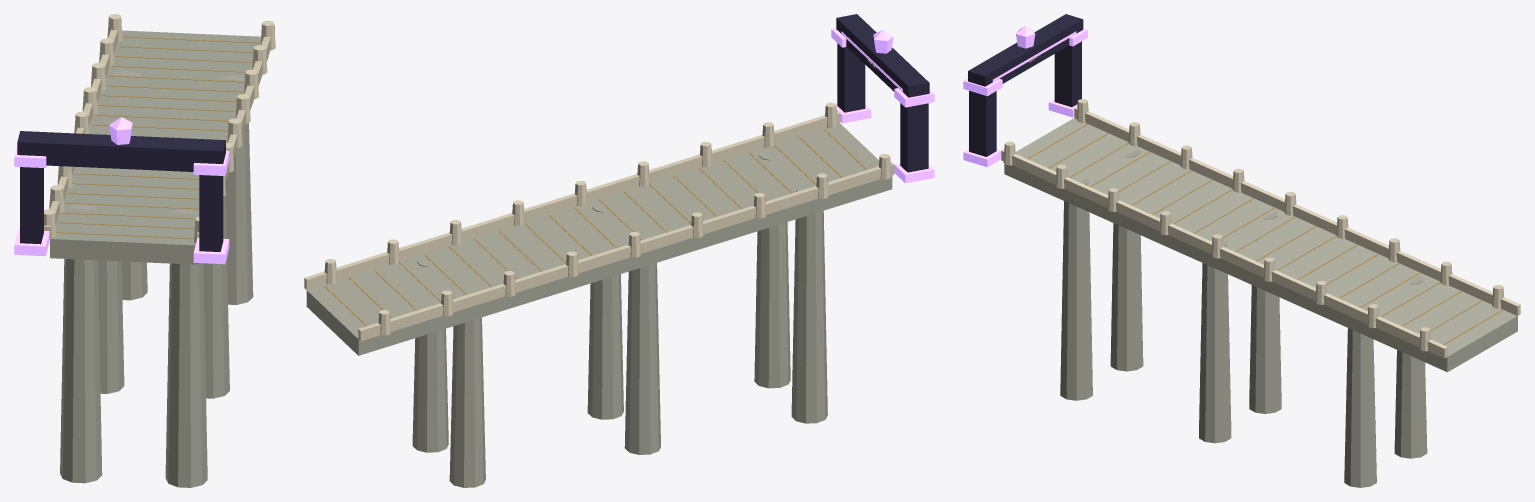
Rendered from Branch_VoidRift.glb.
3 renders of one model, left to right at view 1: azimuth 30°, elevation 25°; view 2: azimuth 150°, elevation 25°; view 3: azimuth 270°, elevation 25°, orthographic. The views are drawn at different scales.
Visible parts, largest first — view 1: Branch_VoidRift_Sanctuary limestone_-2_-2, Branch_VoidRift_Sanctuary limestone_-2_-3, Branch_VoidRift_VoidRift_dark_-2_-3, Branch_VoidRift_Warm ivory_-2_-2, Branch_VoidRift_VoidRift_accent_-2_-3, Branch_VoidRift_Aged gold_-2_-2, Branch_VoidRift_Aged gold_-2_-3, Branch_VoidRift_Warm ivory_-2_-3, Branch_VoidRift_Warm ivory_-1_-2; view 2: Branch_VoidRift_Sanctuary limestone_-2_-2, Branch_VoidRift_Warm ivory_-2_-2, Branch_VoidRift_Sanctuary limestone_-2_-3, Branch_VoidRift_VoidRift_dark_-2_-3, Branch_VoidRift_VoidRift_accent_-2_-3, Branch_VoidRift_Aged gold_-2_-2, Branch_VoidRift_Warm ivory_-2_-3; view 3: Branch_VoidRift_Sanctuary limestone_-2_-2, Branch_VoidRift_Warm ivory_-2_-2, Branch_VoidRift_Sanctuary limestone_-2_-3, Branch_VoidRift_VoidRift_dark_-2_-3, Branch_VoidRift_VoidRift_accent_-2_-3, Branch_VoidRift_Aged gold_-2_-2, Branch_VoidRift_Warm ivory_-2_-3, Branch_VoidRift_Aged gold_-2_-3.
Part boxes in pixels (box(x1,y1,x2,y2)): Branch_VoidRift_Sanctuary limestone_-2_-2: box(50, 30, 268, 398); Branch_VoidRift_Sanctuary limestone_-2_-3: box(60, 204, 207, 487); Branch_VoidRift_VoidRift_dark_-2_-3: box(17, 131, 225, 251); Branch_VoidRift_Warm ivory_-2_-2: box(44, 14, 274, 238); Branch_VoidRift_VoidRift_accent_-2_-3: box(14, 117, 229, 264); Branch_VoidRift_Aged gold_-2_-2: box(75, 46, 253, 179); Branch_VoidRift_Aged gold_-2_-3: box(56, 183, 199, 238); Branch_VoidRift_Warm ivory_-2_-3: box(44, 176, 225, 243); Branch_VoidRift_Warm ivory_-1_-2: box(252, 20, 275, 74); Branch_VoidRift_Sanctuary limestone_-2_-2: box(306, 123, 892, 487); Branch_VoidRift_Warm ivory_-2_-2: box(304, 111, 894, 341); Branch_VoidRift_Sanctuary limestone_-2_-3: box(754, 150, 827, 423); Branch_VoidRift_VoidRift_dark_-2_-3: box(836, 14, 929, 172); Branch_VoidRift_VoidRift_accent_-2_-3: box(831, 28, 934, 183); Branch_VoidRift_Aged gold_-2_-2: box(348, 176, 717, 318); Branch_VoidRift_Warm ivory_-2_-3: box(700, 58, 891, 198); Branch_VoidRift_Sanctuary limestone_-2_-2: box(1004, 118, 1517, 487); Branch_VoidRift_Warm ivory_-2_-2: box(1001, 107, 1520, 358); Branch_VoidRift_Sanctuary limestone_-2_-3: box(1060, 149, 1143, 400); Branch_VoidRift_VoidRift_dark_-2_-3: box(968, 14, 1083, 156); Branch_VoidRift_VoidRift_accent_-2_-3: box(963, 26, 1087, 167); Branch_VoidRift_Aged gold_-2_-2: box(1152, 180, 1482, 330); Branch_VoidRift_Warm ivory_-2_-3: box(1003, 53, 1140, 211); Branch_VoidRift_Aged gold_-2_-3: box(1027, 124, 1191, 205).
Size of the model in its own units: 108 by 85 by 130.
